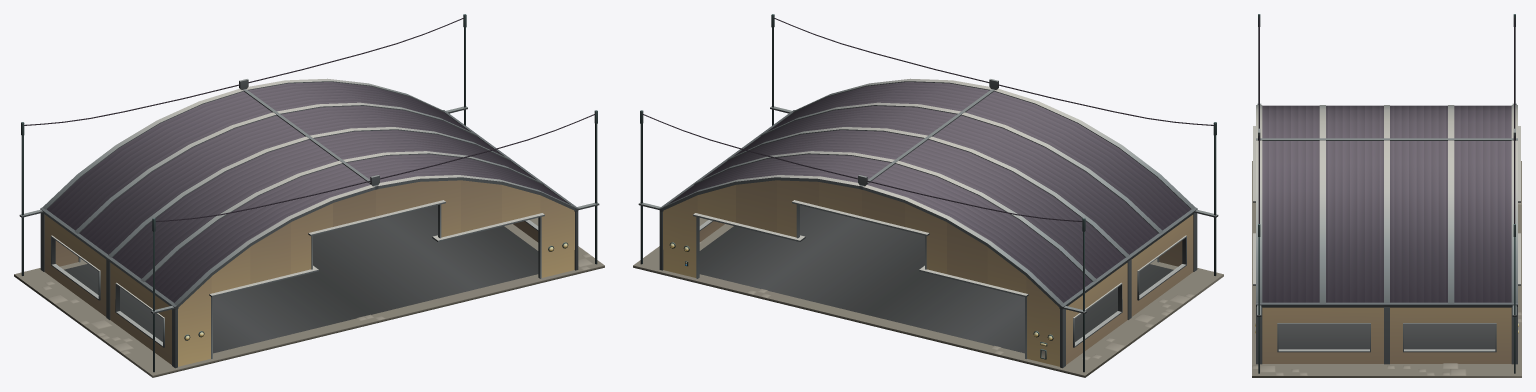
Rendered from Hangar_2B.fbx.
3 views of the same model, side by side, from view 1: azimuth 30°, elevation 25°; view 2: azimuth 150°, elevation 25°; view 3: azimuth 270°, elevation 25° (orthographic). The views are drawn at different scales.
Parts seen in each view (by area): view 1: Hangar_2B; view 2: Hangar_2B; view 3: Hangar_2B.
Boxes of the visible parts, left/top/right/bottom form: Hangar_2B: left=14, top=14, right=604, bottom=377; Hangar_2B: left=633, top=14, right=1223, bottom=377; Hangar_2B: left=1252, top=14, right=1521, bottom=377.
Bounding box in the file's own units: 6400 × 2102 × 3400.
